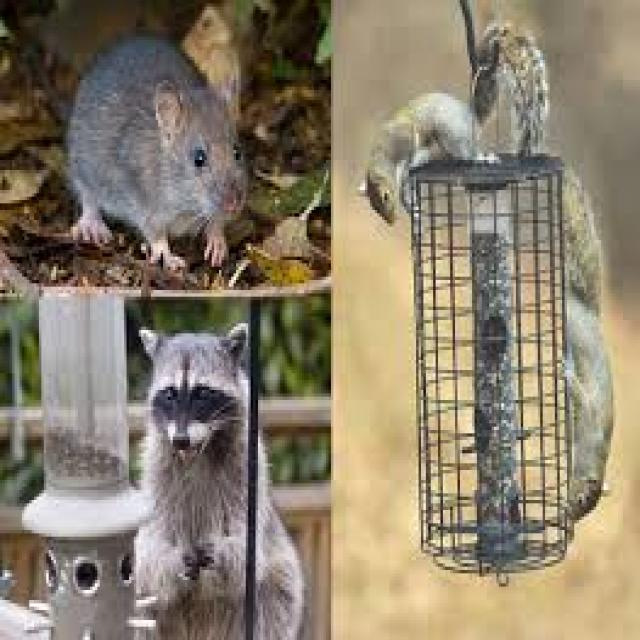rat: (132, 320, 306, 637), (61, 27, 248, 270), (358, 87, 499, 223)
